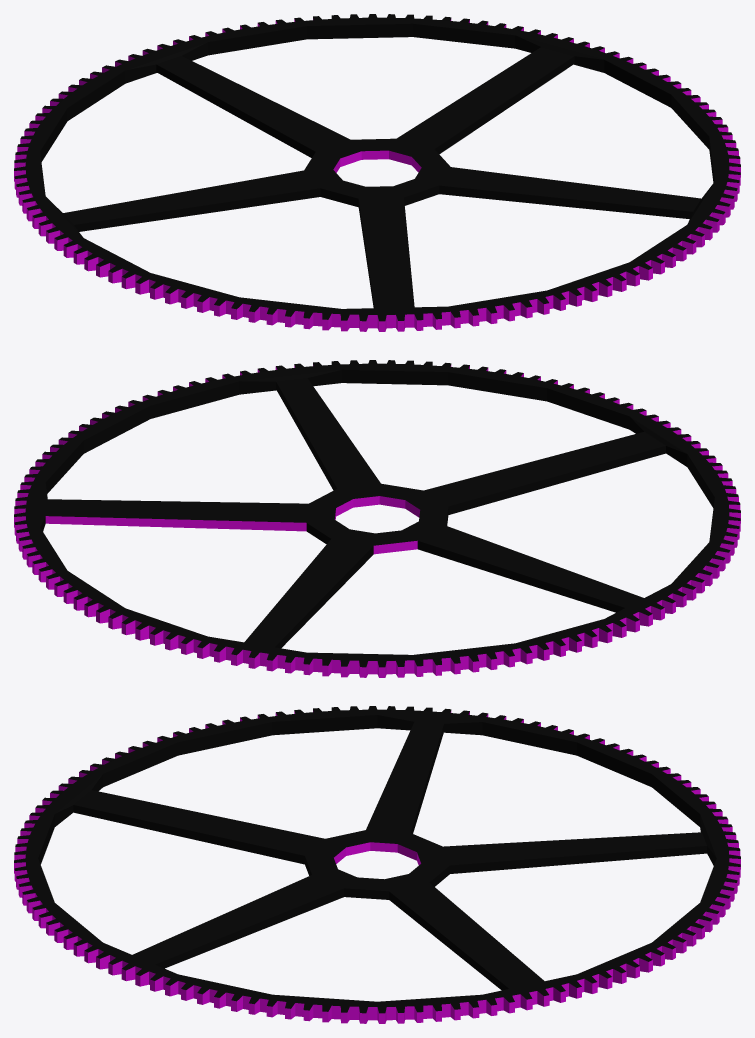
Rendered from D12GearV2.fbx.
The picture shows the model from 3 angles, top to bottom: view 1: azimuth 30°, elevation 25°; view 2: azimuth 150°, elevation 25°; view 3: azimuth 270°, elevation 25°; orthographic projection.
Parts seen in each view (by area): view 1: D12GearV2; view 2: D12GearV2; view 3: D12GearV2.
Part boxes in pixels (box(x1,y1,x2,y2)): D12GearV2: box(14, 14, 740, 331); D12GearV2: box(14, 360, 740, 677); D12GearV2: box(14, 706, 740, 1023).
Size of the model in its own units: 24.8 by 0.5 by 24.8.
